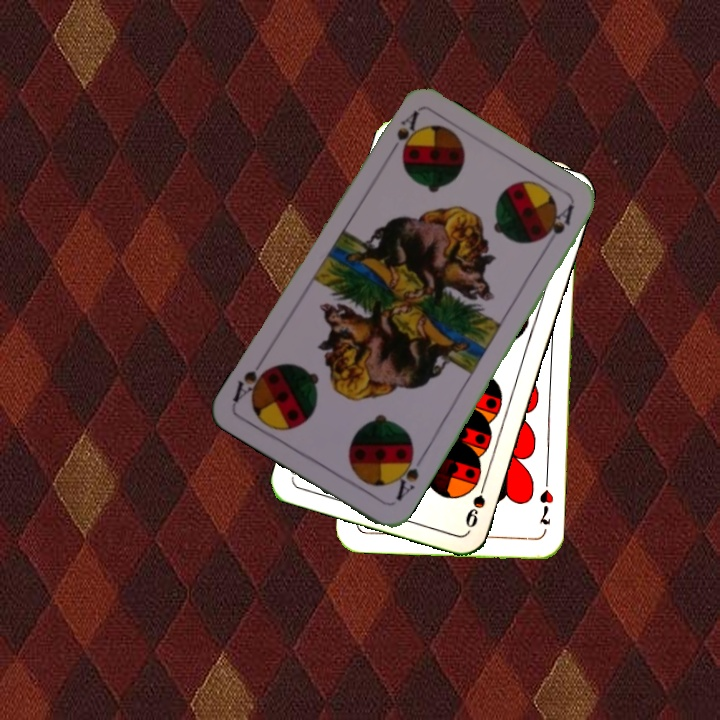H7: (535, 486, 556, 528)
S9: (461, 473, 490, 531)
SA: (383, 107, 422, 160), (388, 447, 422, 504)
